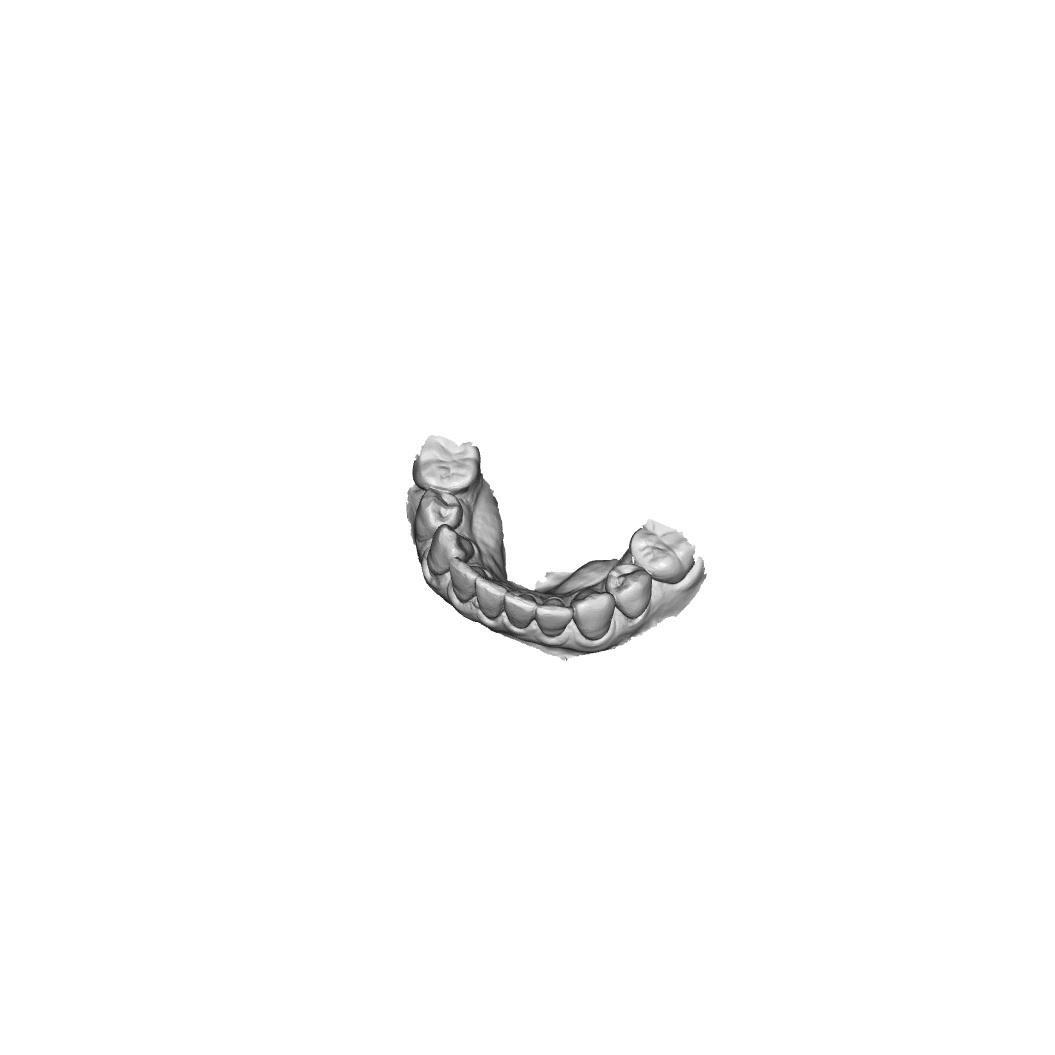canine: (425, 523, 476, 576), (570, 588, 617, 641)
incisor: (448, 556, 484, 604), (535, 596, 574, 638), (474, 576, 510, 621), (503, 588, 537, 629)
molar: (629, 519, 694, 585), (412, 436, 482, 495)
premolar: (605, 562, 653, 620), (412, 488, 465, 539)
